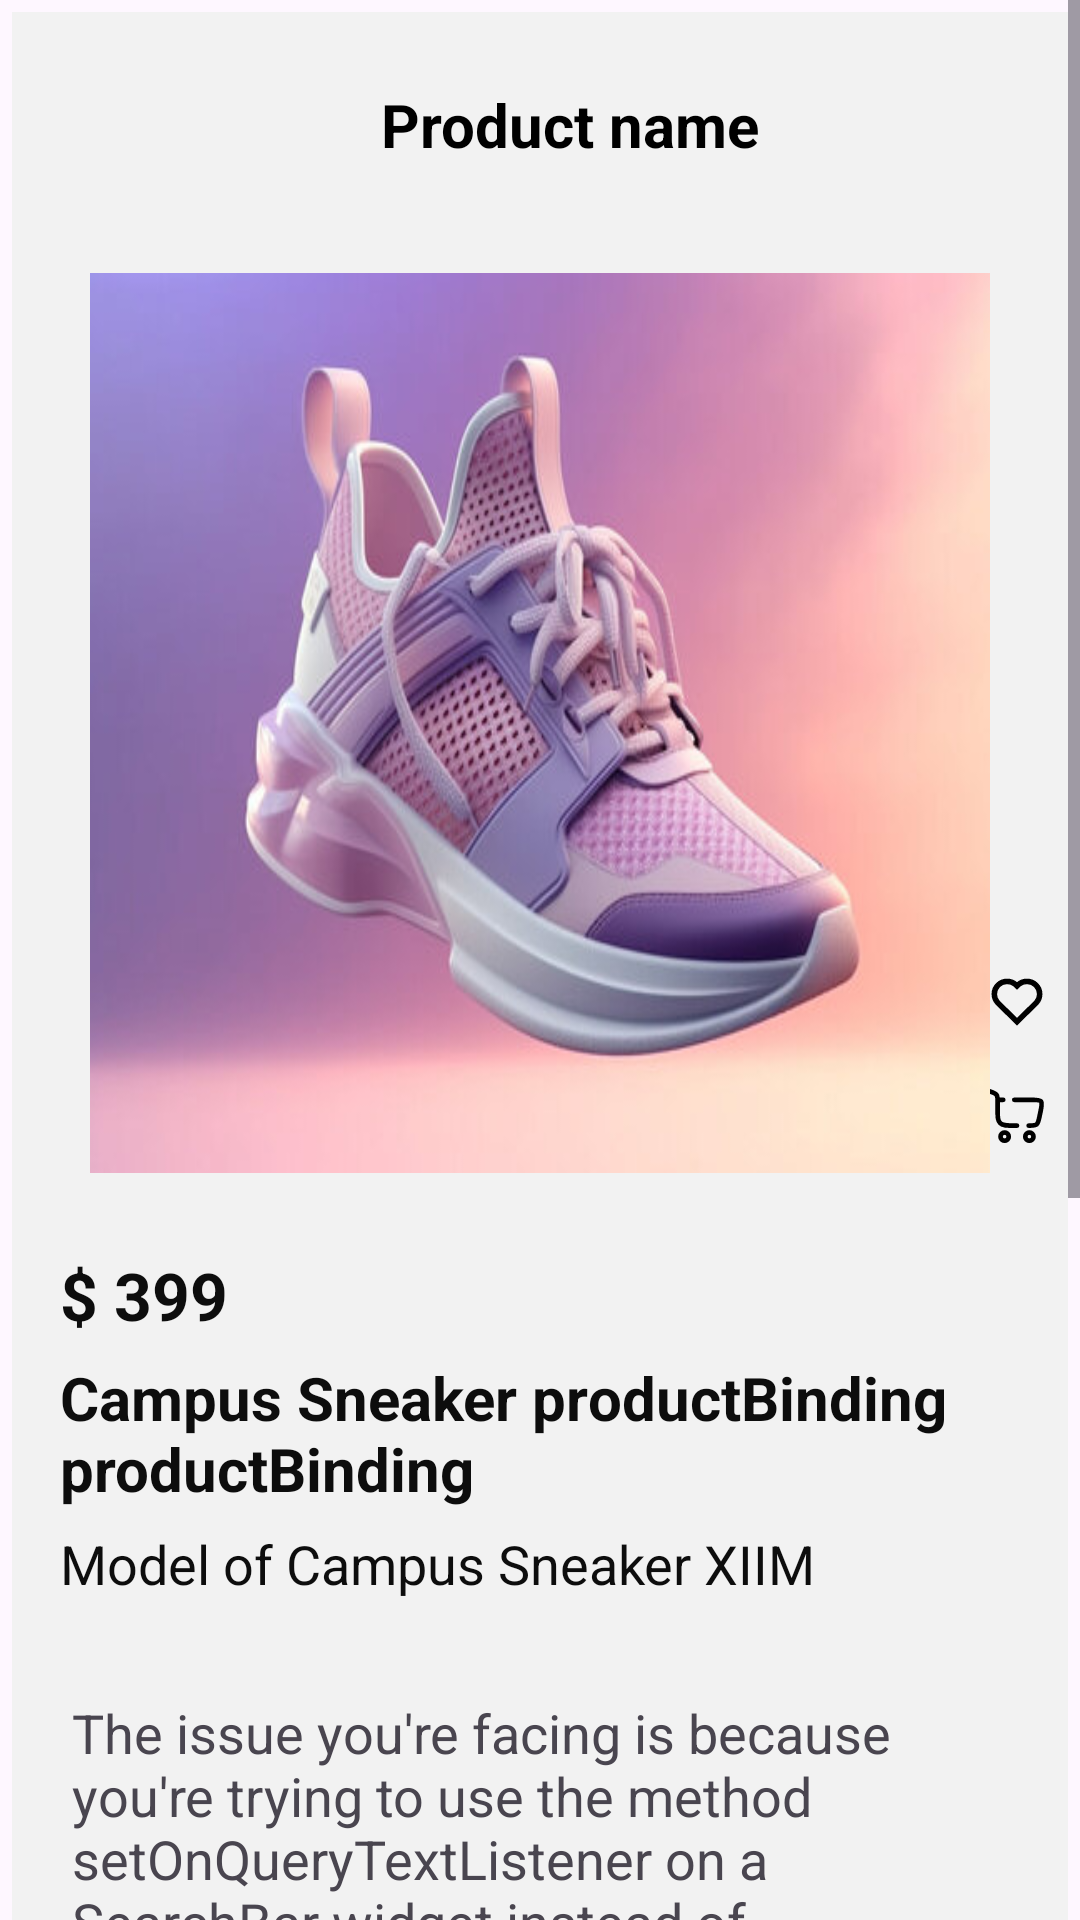

Where icons sit on this 1080 x 1920 app screen, as box=[x1, y1, x2, y2]:
cart: box=[972, 1071, 1044, 1161]
favorite: box=[972, 957, 1043, 1047]
